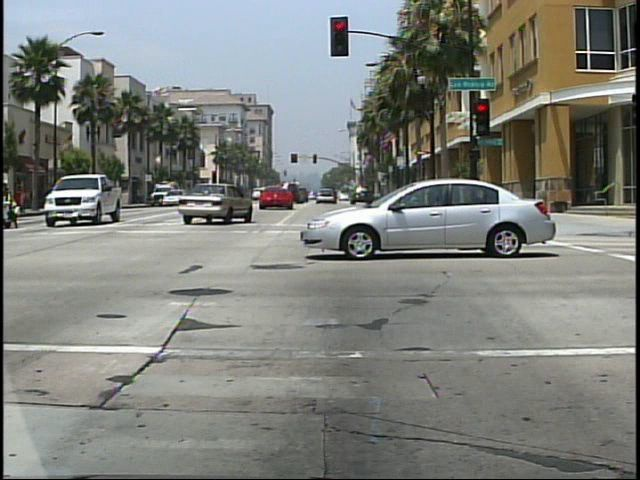person: (0, 177, 25, 230)
